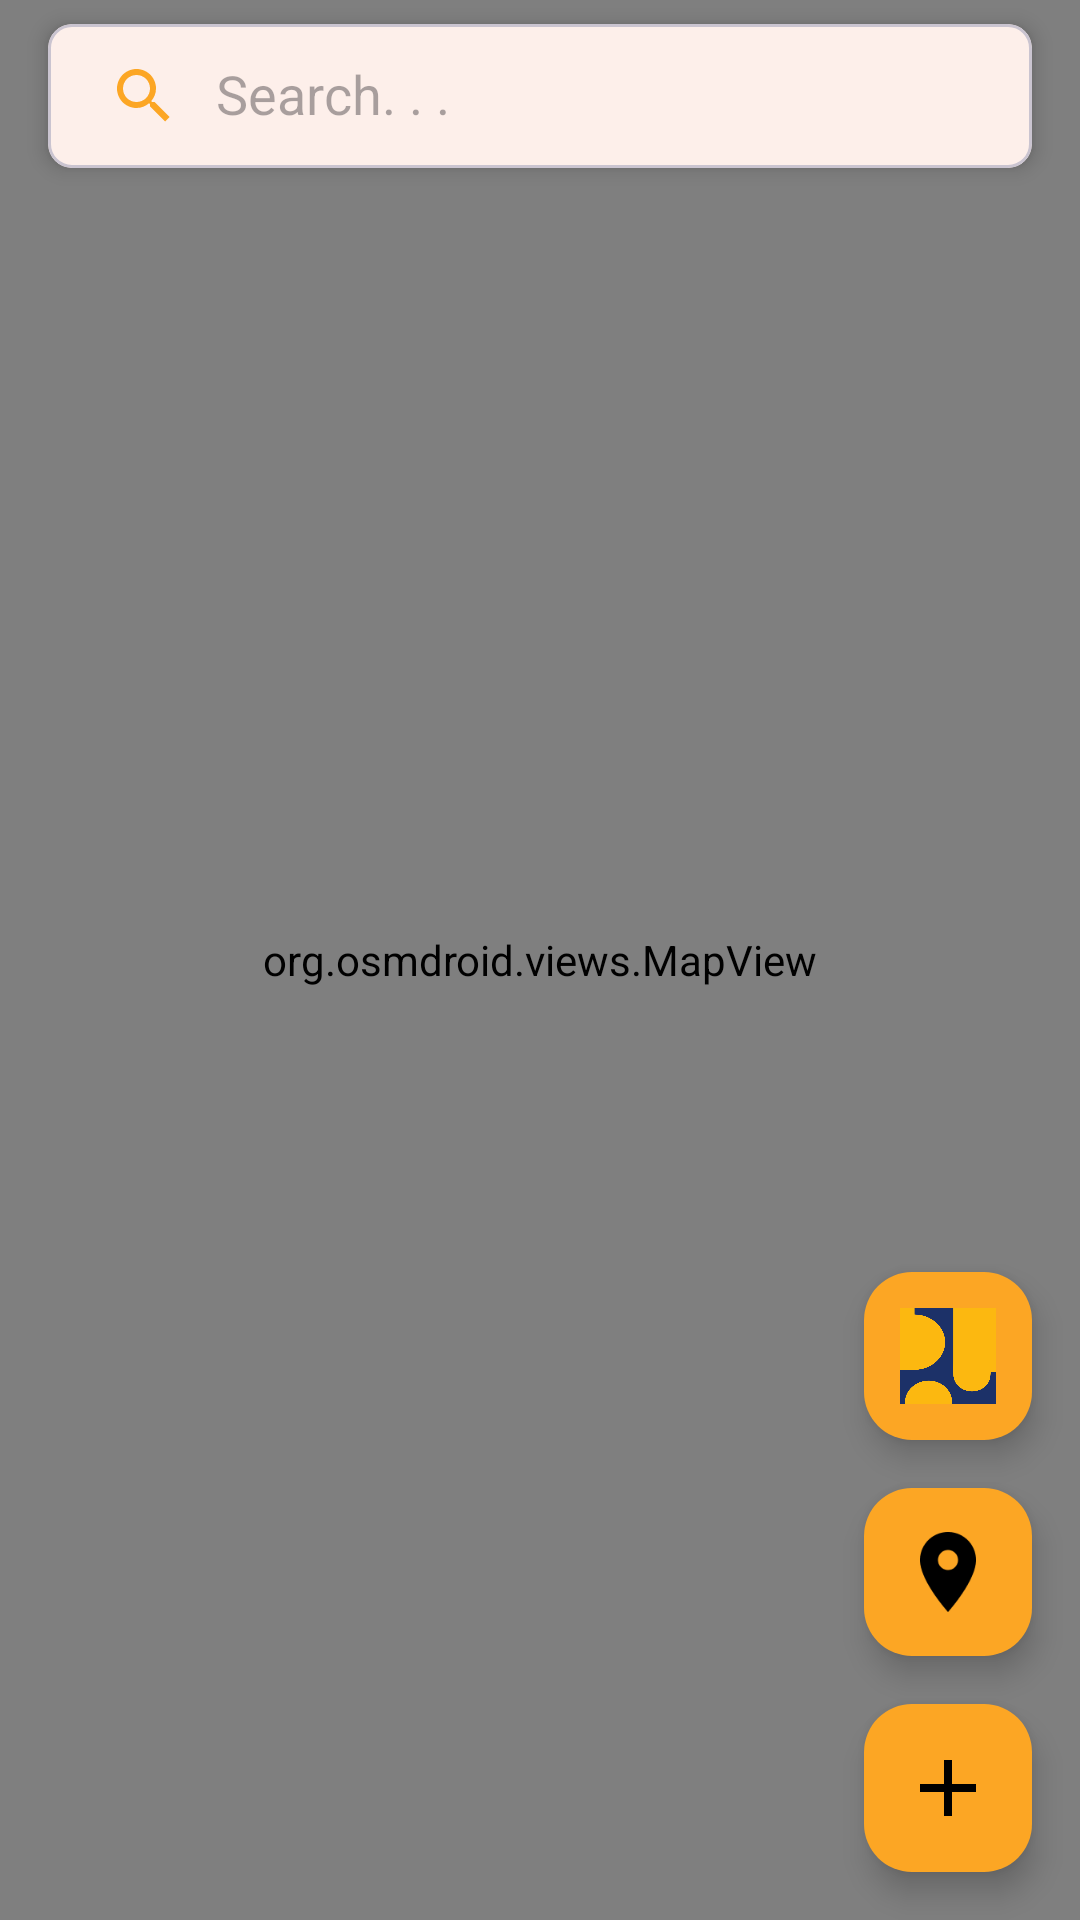

Icon click points for this 1080 × 1920 phone screenshot, format (x,y):
location: (948,1572)
plus: (948,1788)
